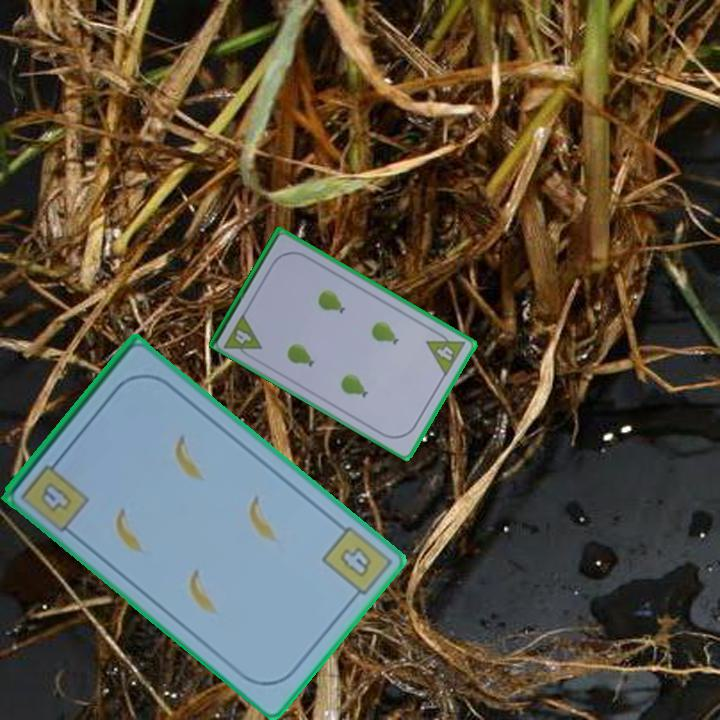4b: (318, 522, 392, 605), (36, 478, 76, 515)
4p: (423, 325, 468, 379), (221, 310, 264, 363)
